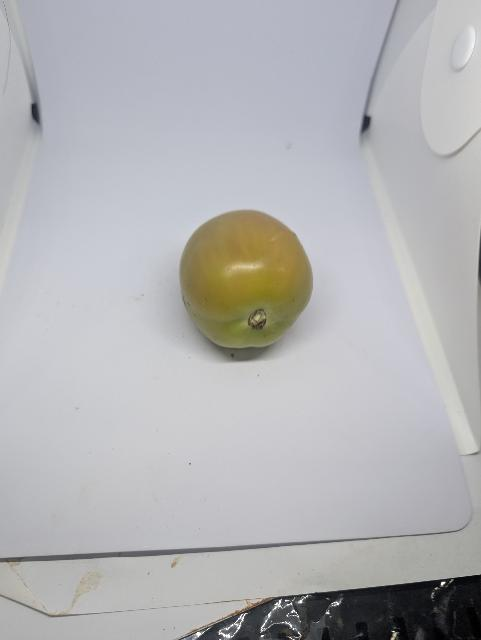breaker: (180, 210, 313, 348)
